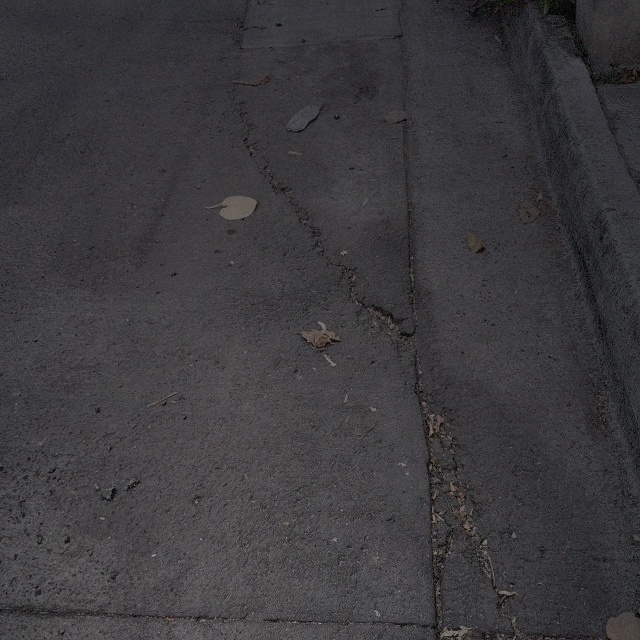pothole: (447, 484, 495, 576), (365, 299, 417, 357)
